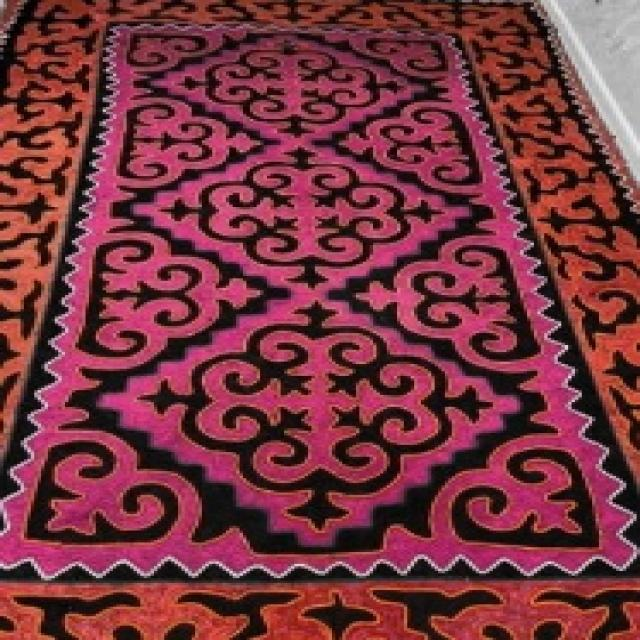Unity: (127, 299, 504, 541), (146, 142, 457, 290), (326, 213, 531, 397), (78, 213, 278, 393), (165, 36, 416, 135), (106, 77, 272, 213), (318, 93, 493, 205)
